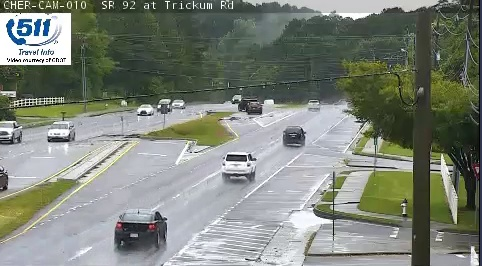car: (114, 210, 168, 245), (222, 153, 256, 176), (283, 126, 305, 144)
